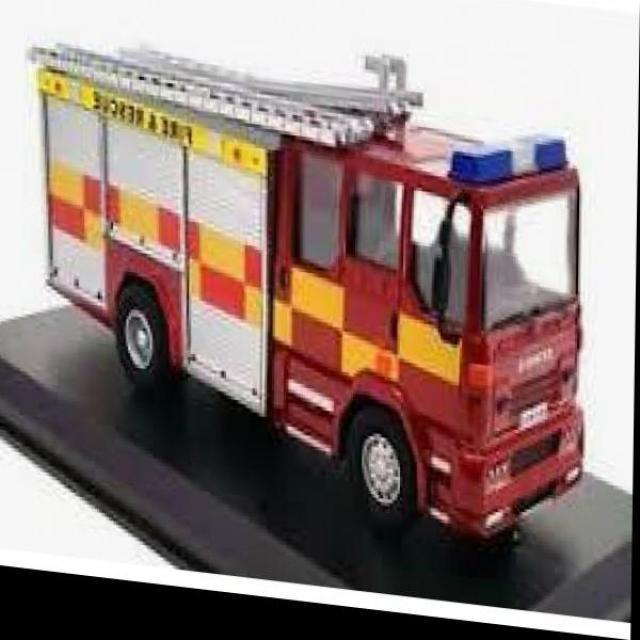emergency: (25, 38, 588, 548)
